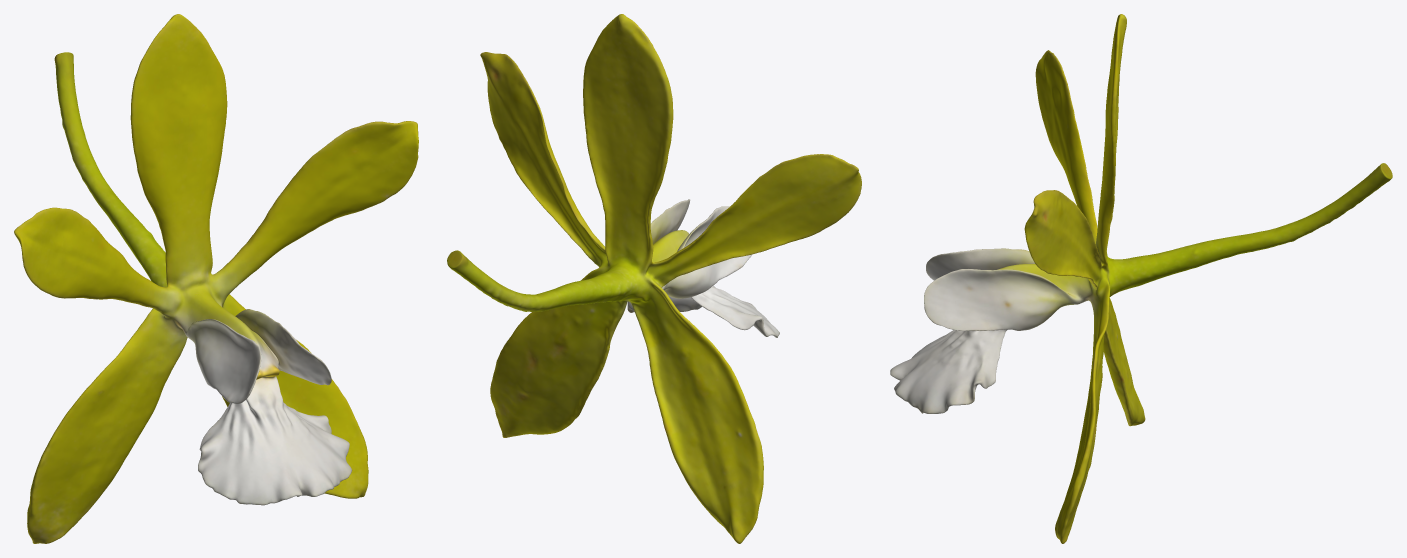
The model's file is encyclia-detail.glb.
The picture shows the model from 3 angles, left to right: view 1: azimuth 30°, elevation 25°; view 2: azimuth 150°, elevation 25°; view 3: azimuth 270°, elevation 25°; orthographic projection. The views are drawn at different scales.
Size of the model in its own units: 0.0291 by 0.0354 by 0.0345.
1 material, 1 textured.
